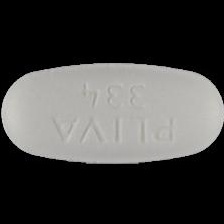49999-095: (0, 0, 224, 224)
